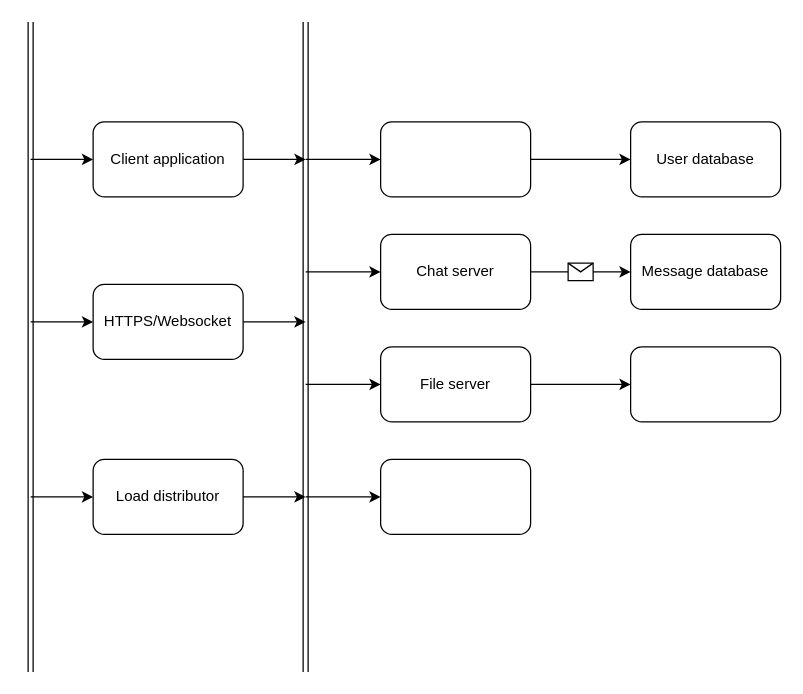
Some shapes in this 803 by 694 pixel diagram are drawn without their labels. The centre of each missing label's shape, as x and y in pixels:
"Authentication server" goes at [455,159].
"File database" goes at [705,384].
"Notification server" goes at [455,496].
